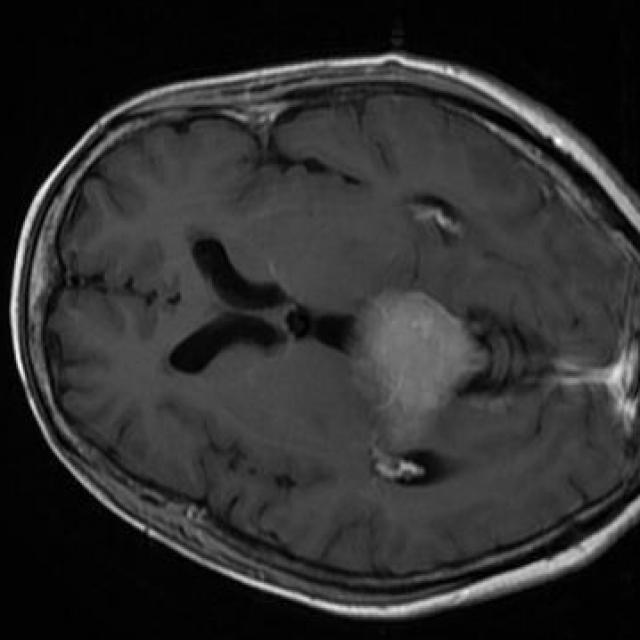meningioma: (357, 291, 476, 455)
